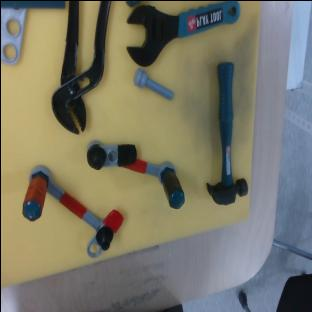non_pass: (79, 126, 196, 211)
pass: (9, 163, 126, 262)
